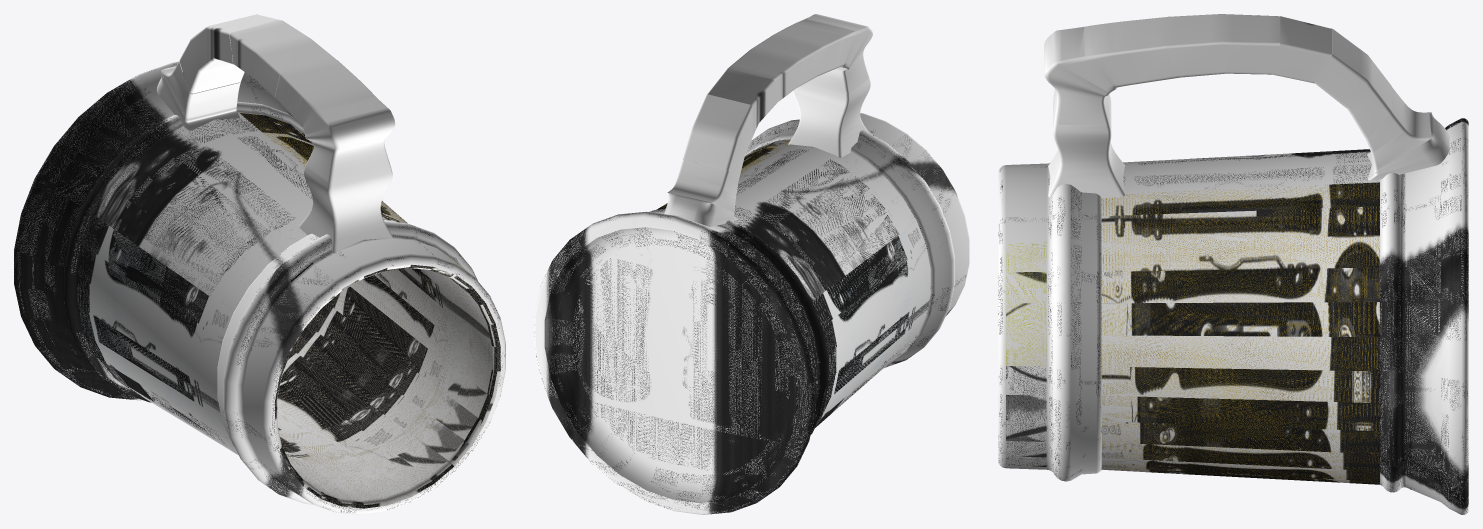
Rendered from model_scale.obj.
3 views of the same model, side by side, from view 1: azimuth 30°, elevation 25°; view 2: azimuth 150°, elevation 25°; view 3: azimuth 270°, elevation 25° (orthographic). The views are drawn at different scales.
Parts seen in each view (by area): view 1: mesh3_mesh3-geometry, mesh1_mesh1-geometry, mesh2_mesh2-geometry; view 2: mesh3_mesh3-geometry, mesh1_mesh1-geometry, mesh2_mesh2-geometry; view 3: mesh3_mesh3-geometry, mesh1_mesh1-geometry, mesh2_mesh2-geometry.
Part boxes in pixels (x1=…): mesh3_mesh3-geometry: x1=14, y1=61, x2=505, y2=514; mesh1_mesh1-geometry: x1=179, y1=14, x2=395, y2=252; mesh2_mesh2-geometry: x1=156, y1=50, x2=240, y2=130; mesh3_mesh3-geometry: x1=534, y1=113, x2=969, y2=514; mesh1_mesh1-geometry: x1=683, y1=14, x2=872, y2=183; mesh2_mesh2-geometry: x1=664, y1=159, x2=737, y2=226; mesh3_mesh3-geometry: x1=998, y1=118, x2=1468, y2=514; mesh1_mesh1-geometry: x1=1044, y1=14, x2=1391, y2=198; mesh2_mesh2-geometry: x1=1366, y1=87, x2=1449, y2=180.
Bounding box in the file's own units: 0.078 × 0.1021 × 0.093.
